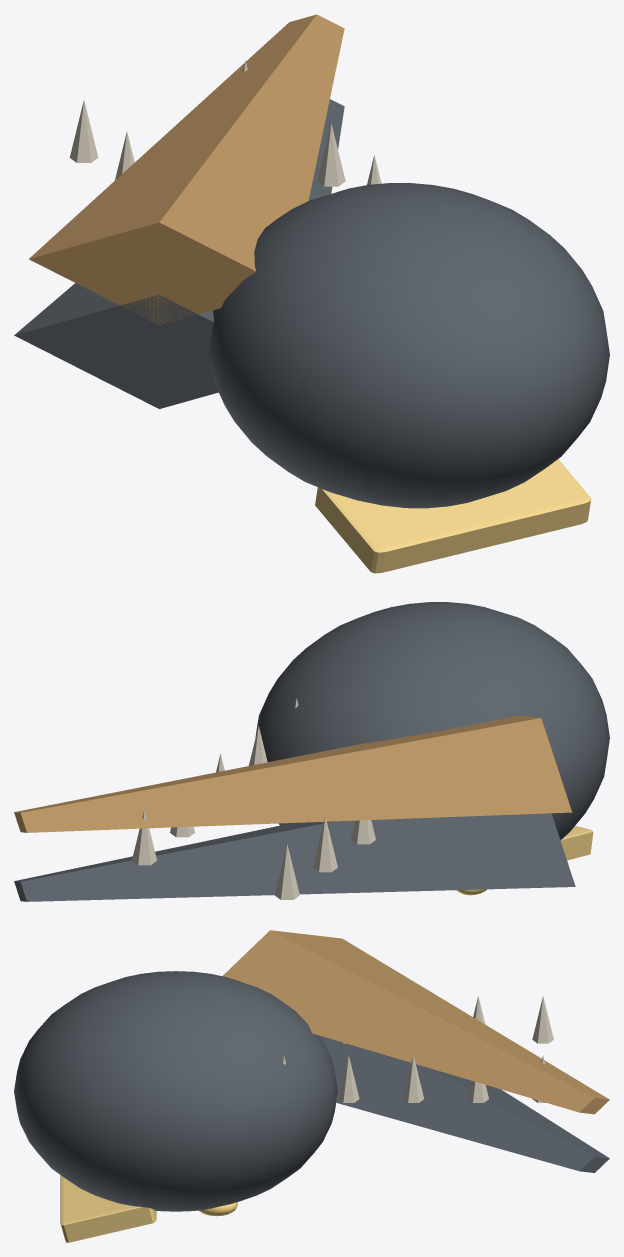
Rendered from SM_Keeper_Ammit_Head.fbx.
3 views of the same model, one above another, from view 1: azimuth 30°, elevation 25°; view 2: azimuth 150°, elevation 25°; view 3: azimuth 270°, elevation 25° (orthographic). The views are drawn at different scales.
Visible parts, largest first — view 1: SM_Keeper_Ammit_Head; view 2: SM_Keeper_Ammit_Head; view 3: SM_Keeper_Ammit_Head.
Part boxes in pixels (x1,y1,x2,y2): SM_Keeper_Ammit_Head: (14, 14, 609, 573); SM_Keeper_Ammit_Head: (14, 602, 609, 901); SM_Keeper_Ammit_Head: (14, 930, 609, 1242).
Bounding box in the file's own units: 1.56 × 0.8801 × 2.21.
